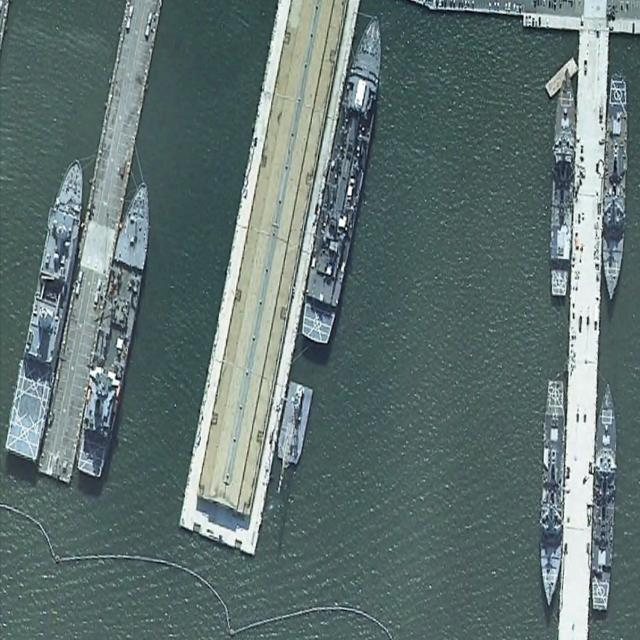Auxiliary Ships: (3, 150, 95, 465)
Commander: (299, 7, 392, 348), (73, 173, 161, 480)
Destroyer: (537, 377, 567, 608), (549, 64, 578, 298), (590, 380, 619, 611), (601, 71, 629, 300)
